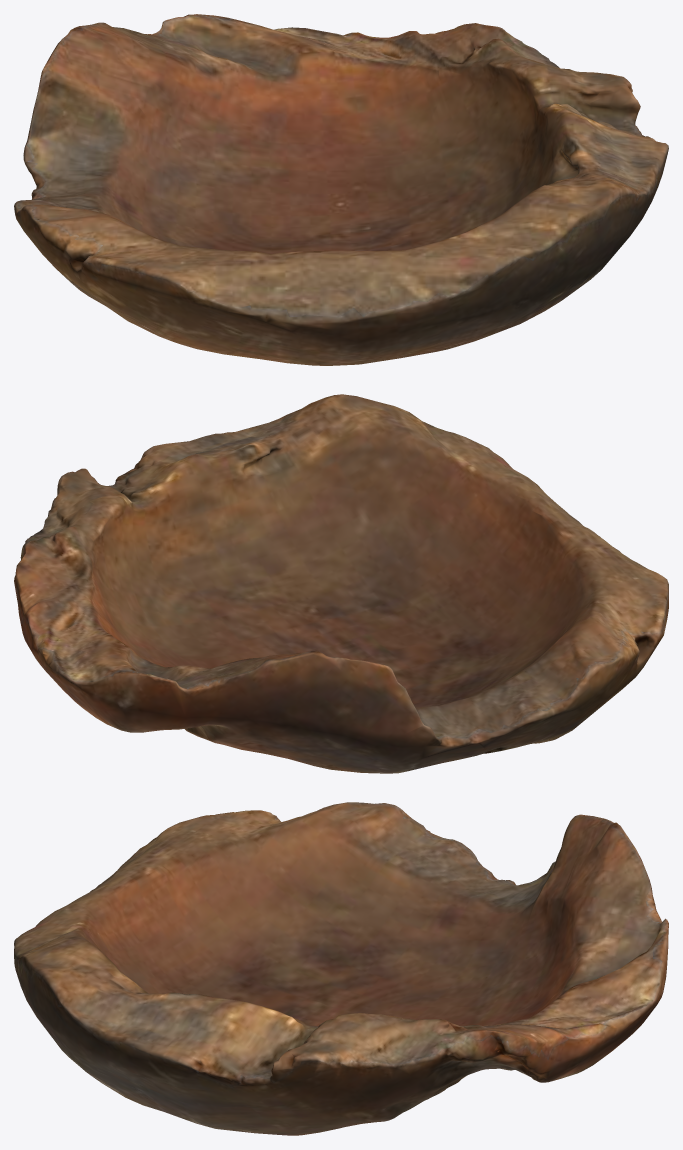
Rendered from wooden_bowl_01.glb.
3 renders of one model, top to bottom at view 1: azimuth 30°, elevation 25°; view 2: azimuth 150°, elevation 25°; view 3: azimuth 270°, elevation 25°, orthographic. The views are drawn at different scales.
Parts seen in each view (by area): view 1: wooden_bowl_01; view 2: wooden_bowl_01; view 3: wooden_bowl_01.
Part boxes in pixels (left/top/right/bottom): wooden_bowl_01: left=14, top=14, right=668, bottom=365; wooden_bowl_01: left=14, top=394, right=668, bottom=773; wooden_bowl_01: left=14, top=802, right=668, bottom=1135.
Bounding box in the file's own units: 0.3131 × 0.0937 × 0.3091.
1 material, 1 textured.
